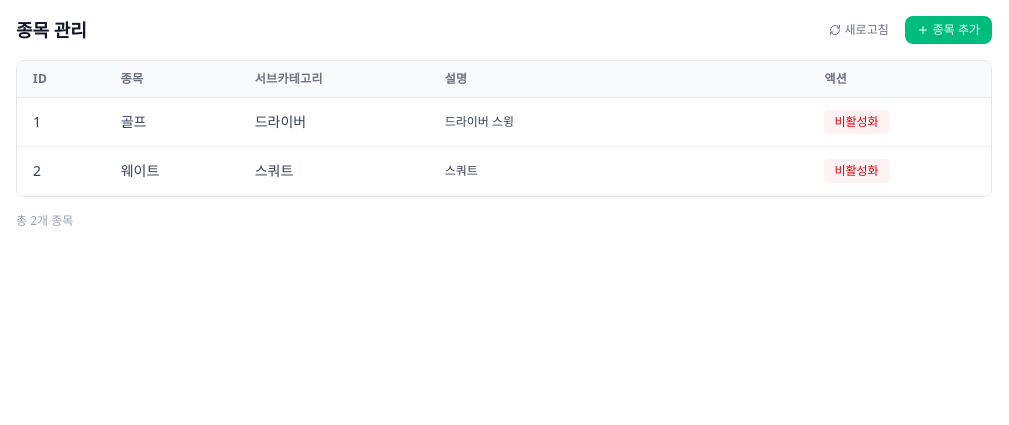
Test: AdminSportsPage › "종목 추가" 버튼 클릭 시 추가 폼이 노출된다
Expected: the text "골프" is shown, [105, 98, 239, 146]
Click the button "종목 추가" at (948, 30), box [905, 16, 992, 44]
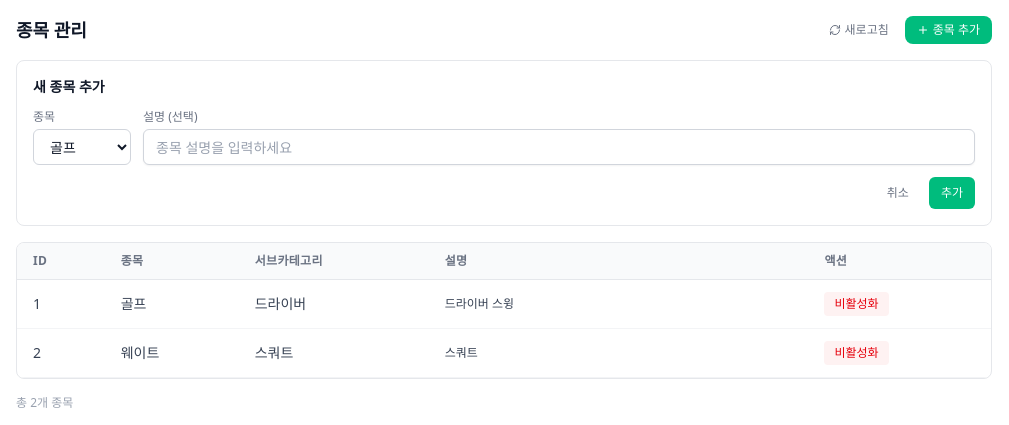
Expected: the heading "새 종목 추가" is shown, [33, 77, 105, 96]
